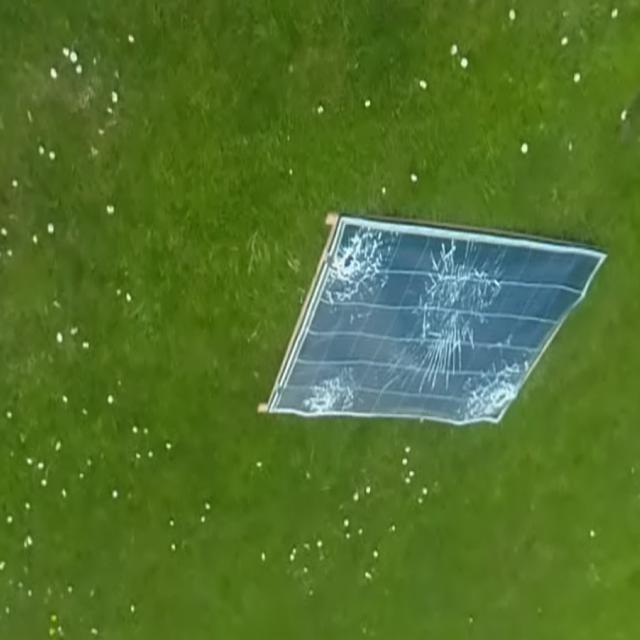faulty: (264, 221, 603, 423)
